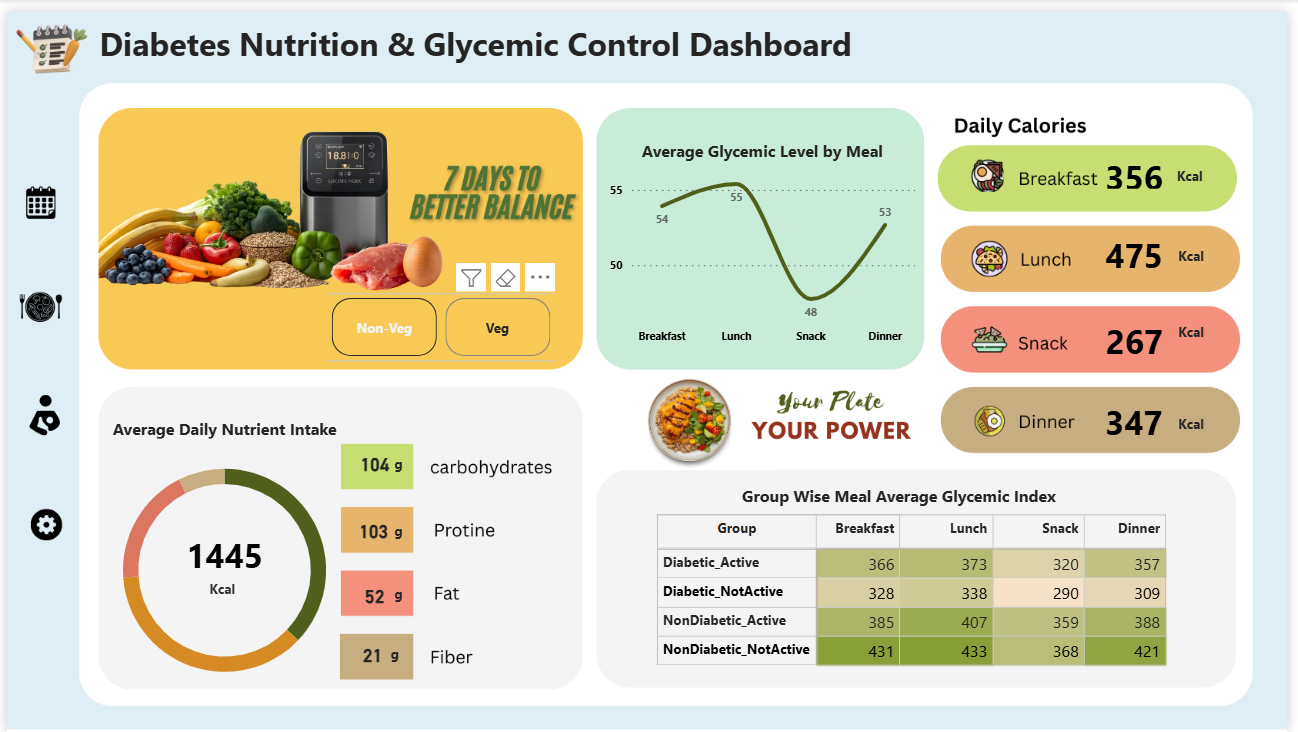

The page's visual inventory and layout, read from the dashboard file:
{"tool":"powerbi","page":{"name":"Page 1","canvas":[1280,720],"ordinal":0},"visuals":[{"type":"textbox","box":[87.8,5.5,817.8,72.7],"z":0},{"type":"cardVisual","fields":{"Data":["Diabetic.Average Breakfast CaloriesAvg Breakfast Calories"]},"box":[1071.7,118,112.5,64.5],"z":1000},{"type":"cardVisual","fields":{"Data":["Diabetic.Average Lunch CaloriesAvg Lunch Calories"]},"box":[1066.2,185.2,122.1,107],"z":2000},{"type":"cardVisual","fields":{"Data":["Diabetic.Average Snack CaloriesAvg Snack Calories"]},"box":[1074.4,281.3,105.7,68.6],"z":3000},{"type":"cardVisual","fields":{"Data":["Diabetic.Average Dinner CaloriesAvg Dinner Calories"]},"box":[1073.1,362.3,109.8,75.5],"z":4000},{"type":"lineChart","title":"Average Glycemic Level by Meal","fields":{"Category":["Diabetic.Meal"],"Y":["Diabetic.Average Glycemic Index by MealAvg Glycemic Index"]},"box":[596.9,127.6,315.6,214.1],"z":5000},{"type":"donutChart","title":"Average Daily Nutrient Intake","fields":{"Y":["Diabetic.Avg Carbs per Day per GroupAvg Carbs per Day per Group","Diabetic.Avg Protein per Day per GroupAvg Protein per Day per Group","Diabetic.Avg Fat per Day per GroupAvg Fat per Day per Group","Diabetic.Avg Fiber per Day per GroupAvg Fiber per Day per Group"]},"box":[19.2,404.8,397.9,285.4],"z":6000},{"type":"cardVisual","fields":{"Data":["Diabetic.Avg Calories per Day per GroupAvg Calories per Day per Group"]},"box":[150.9,487.1,133.1,100.2],"z":7000},{"type":"textbox","box":[197.6,562.6,49.4,43.9],"z":7001},{"type":"cardVisual","fields":{"Data":["Diabetic.Avg Carbs per Day per GroupAvg Carbs per Day per Group"]},"box":[336.2,411.7,74.1,75.5],"z":7002},{"type":"cardVisual","fields":{"Data":["Diabetic.Avg Protein per Day per GroupAvg Protein per Day per Group"]},"box":[334.8,477.5,86.4,75.5],"z":7003},{"type":"cardVisual","fields":{"Data":["Diabetic.Avg Fat per Day per GroupAvg Fat per Day per Group"]},"box":[340.3,547.5,70,65.9],"z":7004},{"type":"cardVisual","fields":{"Data":["Diabetic.Avg Fiber per Day per GroupAvg Fiber per Day per Group"]},"box":[338.9,607.9,74.1,64.5],"z":7005},{"type":"pivotTable","fields":{"Rows":["Diabetic.Group"],"Columns":["Diabetic.Meal"],"Values":["Sum(Diabetic.Glycemic Index)"]},"box":[644.9,498.1,520.1,199],"z":7006},{"type":"textbox","box":[730,467.9,363.6,48],"z":7007},{"type":"advancedSlicerVisual","fields":{"Values":["Diabetic.Veg/Non-Veg"]},"box":[319.7,281.3,229.2,68.6],"z":7008},{"type":"textbox","box":[1165,150,62,35.7],"z":7009},{"type":"textbox","box":[1166.4,230.5,63.1,35.7],"z":7010},{"type":"textbox","box":[1166.4,306,63.1,35.7],"z":7011},{"type":"textbox","box":[1166.4,397.9,63.1,35.7],"z":7012},{"type":"textbox","box":[382.8,437.7,38.4,30.2],"z":7013},{"type":"textbox","box":[382.8,505,38.4,31.6],"z":7014},{"type":"textbox","box":[382.8,568.1,38.4,31.6],"z":7015},{"type":"textbox","box":[378.7,627,38.4,31.6],"z":7016}]}

Visuals, with their boxes in screenshot pixels (x1, y1, x2, y2), scaled from the page's 1280x720 canvas onto the 1298x732 screenshot:
textbox: l=89, t=6, r=918, b=80
cardVisual - Diabetic.Average Breakfast CaloriesAvg Breakfast Calories: l=1087, t=120, r=1201, b=186
cardVisual - Diabetic.Average Lunch CaloriesAvg Lunch Calories: l=1081, t=188, r=1205, b=297
cardVisual - Diabetic.Average Snack CaloriesAvg Snack Calories: l=1090, t=286, r=1197, b=356
cardVisual - Diabetic.Average Dinner CaloriesAvg Dinner Calories: l=1088, t=368, r=1200, b=445
"Average Glycemic Level by Meal" lineChart: l=605, t=130, r=925, b=347
"Average Daily Nutrient Intake" donutChart: l=19, t=412, r=423, b=702
cardVisual - Diabetic.Avg Calories per Day per GroupAvg Calories per Day per Group: l=153, t=495, r=288, b=597
textbox: l=200, t=572, r=250, b=617
cardVisual - Diabetic.Avg Carbs per Day per GroupAvg Carbs per Day per Group: l=341, t=419, r=416, b=495
cardVisual - Diabetic.Avg Protein per Day per GroupAvg Protein per Day per Group: l=340, t=485, r=427, b=562
cardVisual - Diabetic.Avg Fat per Day per GroupAvg Fat per Day per Group: l=345, t=557, r=416, b=624
cardVisual - Diabetic.Avg Fiber per Day per GroupAvg Fiber per Day per Group: l=344, t=618, r=419, b=684
pivotTable - Diabetic.Group x Diabetic.Meal: l=654, t=506, r=1181, b=709
textbox: l=740, t=476, r=1109, b=524
advancedSlicerVisual - Diabetic.Veg/Non-Veg: l=324, t=286, r=557, b=356
textbox: l=1181, t=152, r=1244, b=189
textbox: l=1183, t=234, r=1247, b=271
textbox: l=1183, t=311, r=1247, b=347
textbox: l=1183, t=405, r=1247, b=441
textbox: l=388, t=445, r=427, b=476
textbox: l=388, t=513, r=427, b=546
textbox: l=388, t=578, r=427, b=610
textbox: l=384, t=637, r=423, b=670
